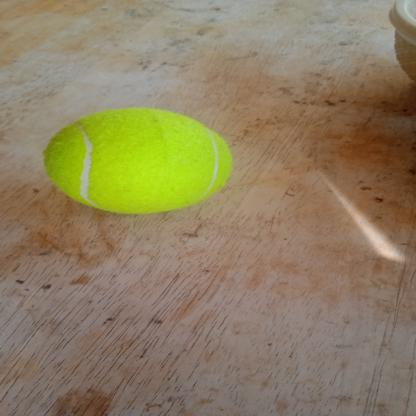Tennis: (39, 105, 240, 219)
